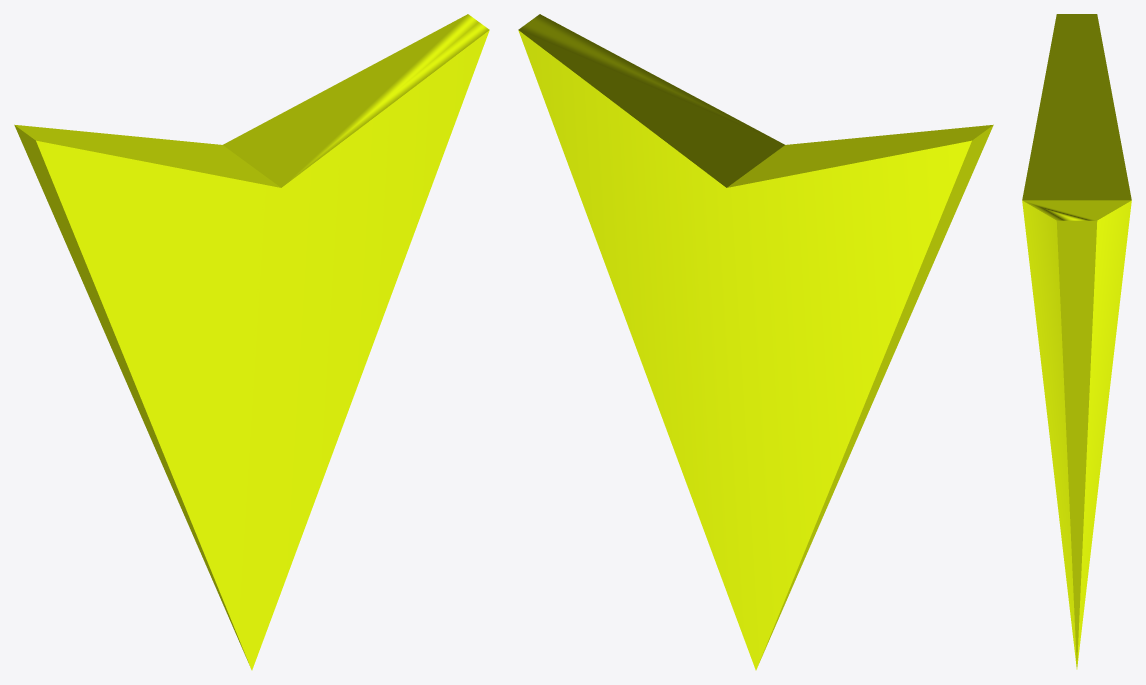
Rendered from yellow.gltf.
The picture shows the model from 3 angles, left to right: view 1: azimuth 30°, elevation 25°; view 2: azimuth 150°, elevation 25°; view 3: azimuth 270°, elevation 25°; orthographic projection. The views are drawn at different scales.
Parts seen in each view (by area): view 1: dingwei; view 2: dingwei; view 3: dingwei.
Part boxes in pixels (<box>): dingwei: <box>14,14,489,670</box>; dingwei: <box>518,14,993,670</box>; dingwei: <box>1022,14,1131,669</box>.
Bounding box in the file's own units: 16.78 × 20.97 × 3.76.
